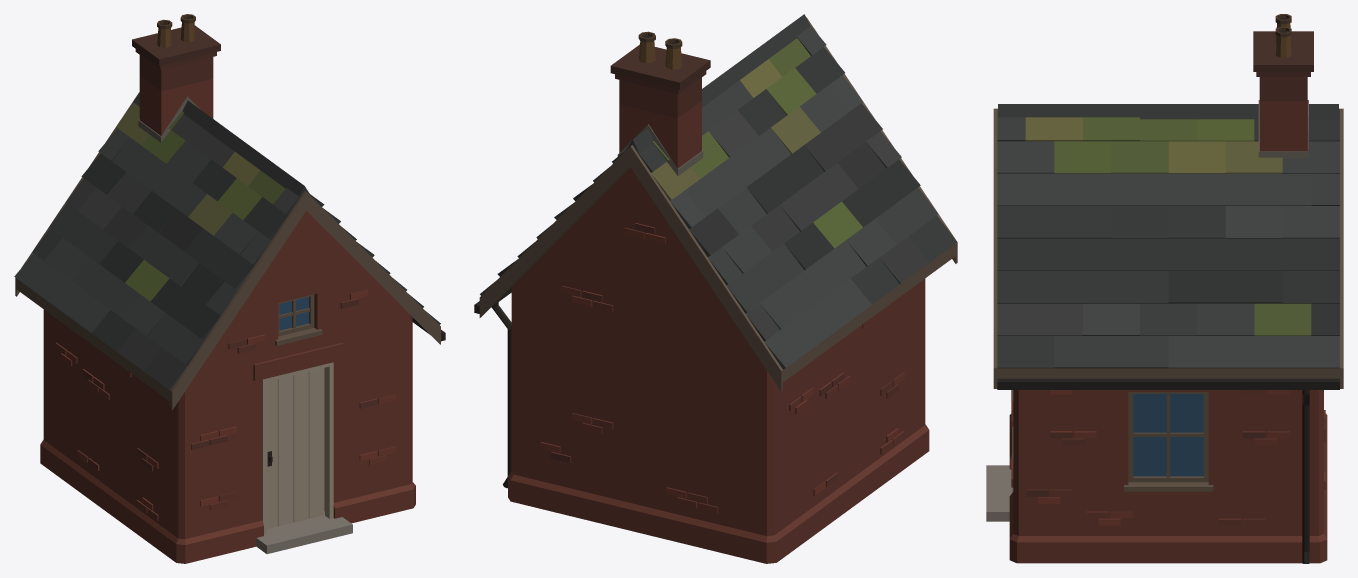
Rendered from lineside-hut-2b43ff.glb.
3 renders of one model, left to right at view 1: azimuth 30°, elevation 25°; view 2: azimuth 150°, elevation 25°; view 3: azimuth 270°, elevation 25°, orthographic. The views are drawn at different scales.
Parts seen in each view (by area): view 1: hut, door-leaf; view 2: hut; view 3: hut.
Boxes of the visible parts, bbox=[...] form: hut: bbox=[14, 14, 445, 563]; door-leaf: bbox=[267, 367, 324, 528]; hut: bbox=[474, 14, 957, 563]; hut: bbox=[986, 14, 1343, 563].
Bounding box in the file's own units: 4 × 5.87 × 4.
